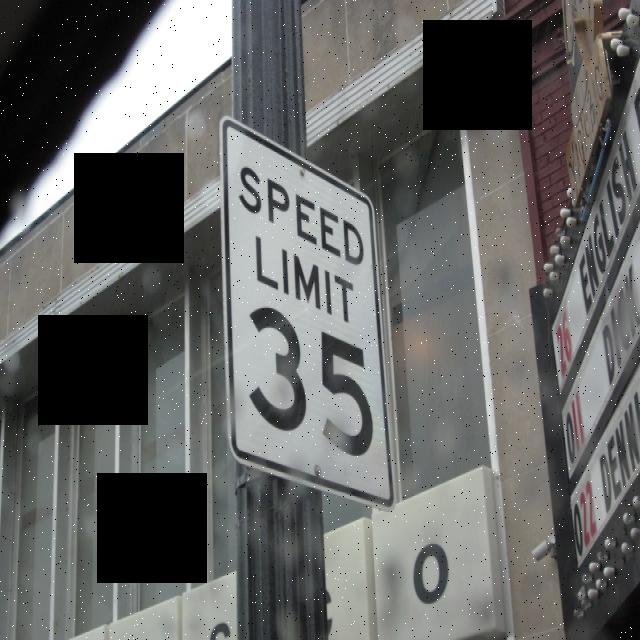regulatory: (209, 109, 409, 516)
